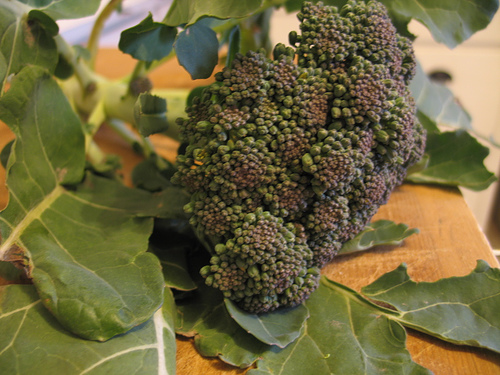broccoli: (172, 0, 429, 319)
